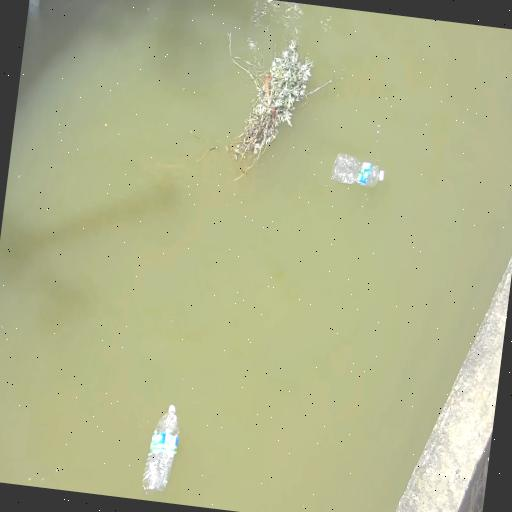plastic: (143, 406, 179, 491), (333, 154, 384, 187)
twig: (227, 34, 313, 177)
